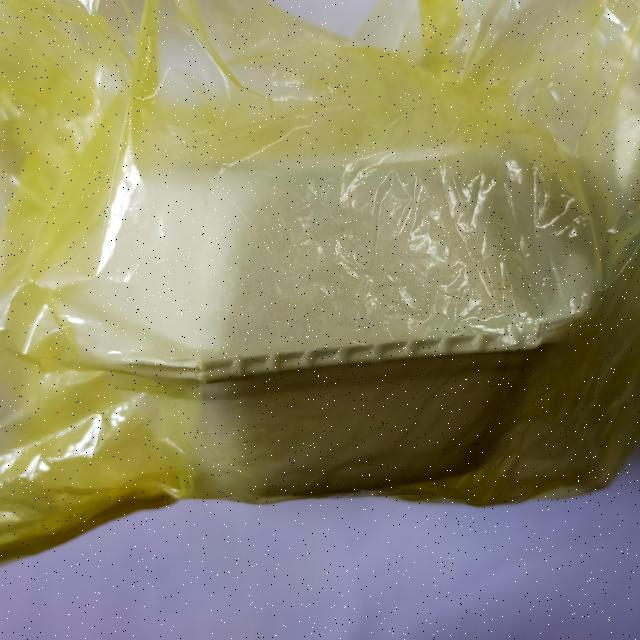styrofoam: (1, 0, 638, 564)
